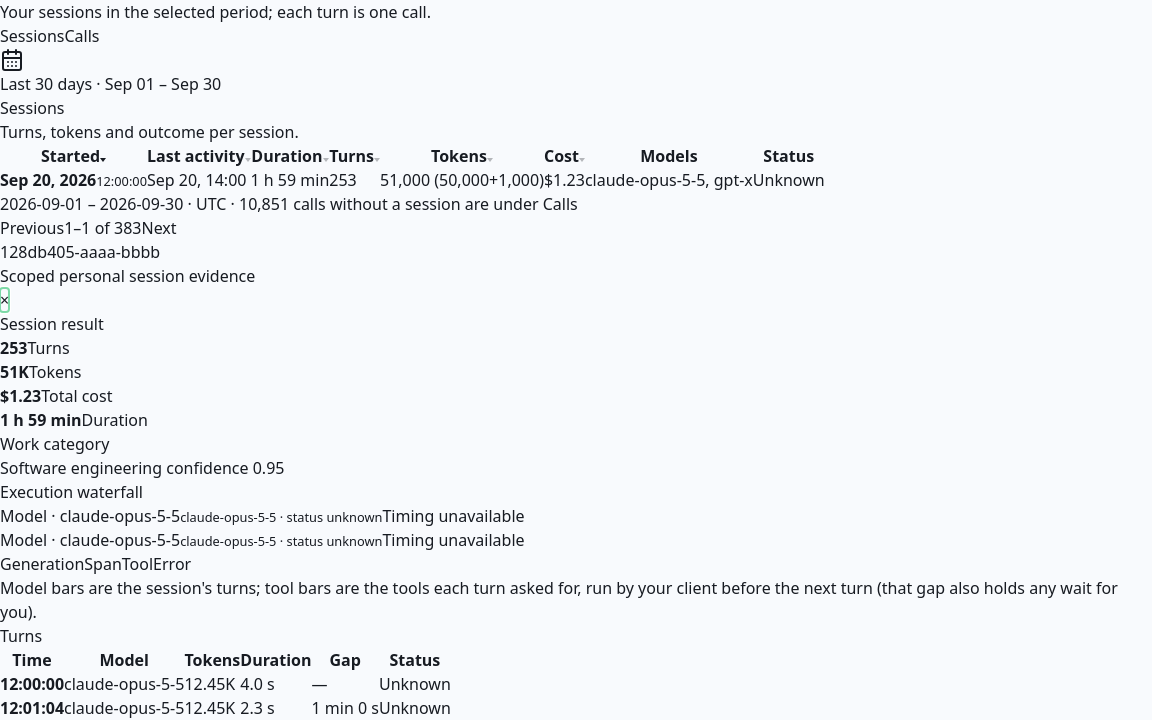
Test: Sessions › a turn opens the existing trace detail; closing it returns to the session
(page scrolled)
Click the button named "Open trace turn-2": click(32, 708) [0,696,64,719]
(page scrolled)
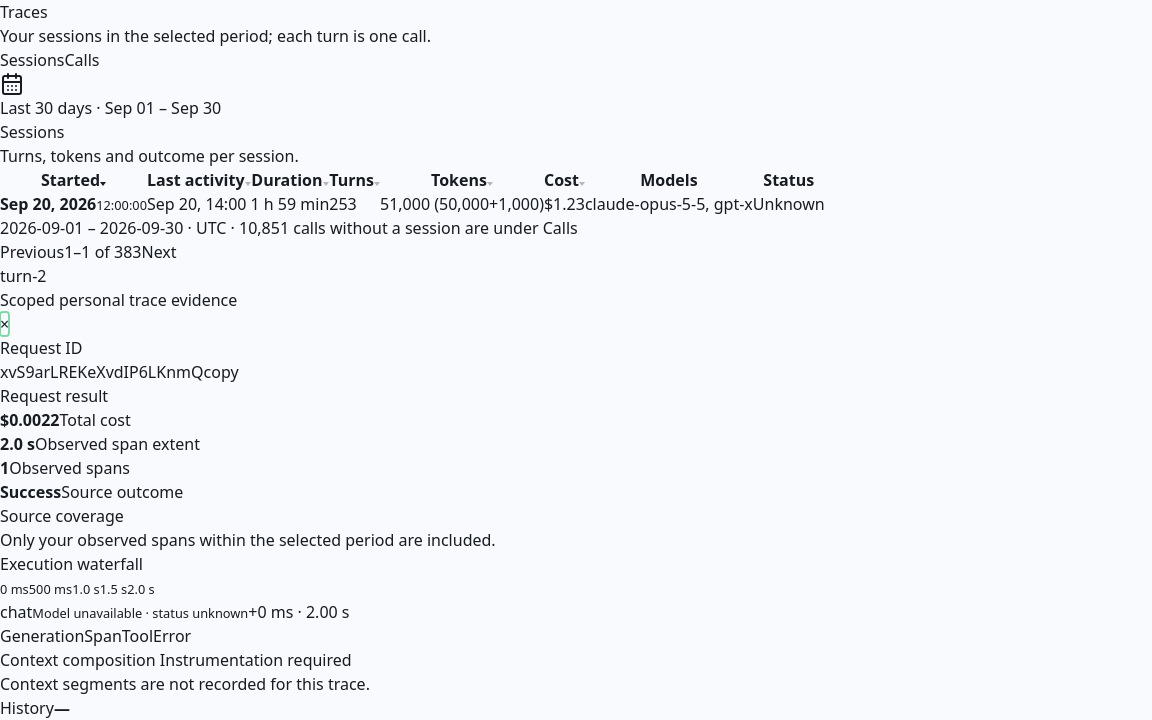
Check: the heading "Execution waterfall" is shown, box [0,553,143,575]
Press Escape
(page scrolled)
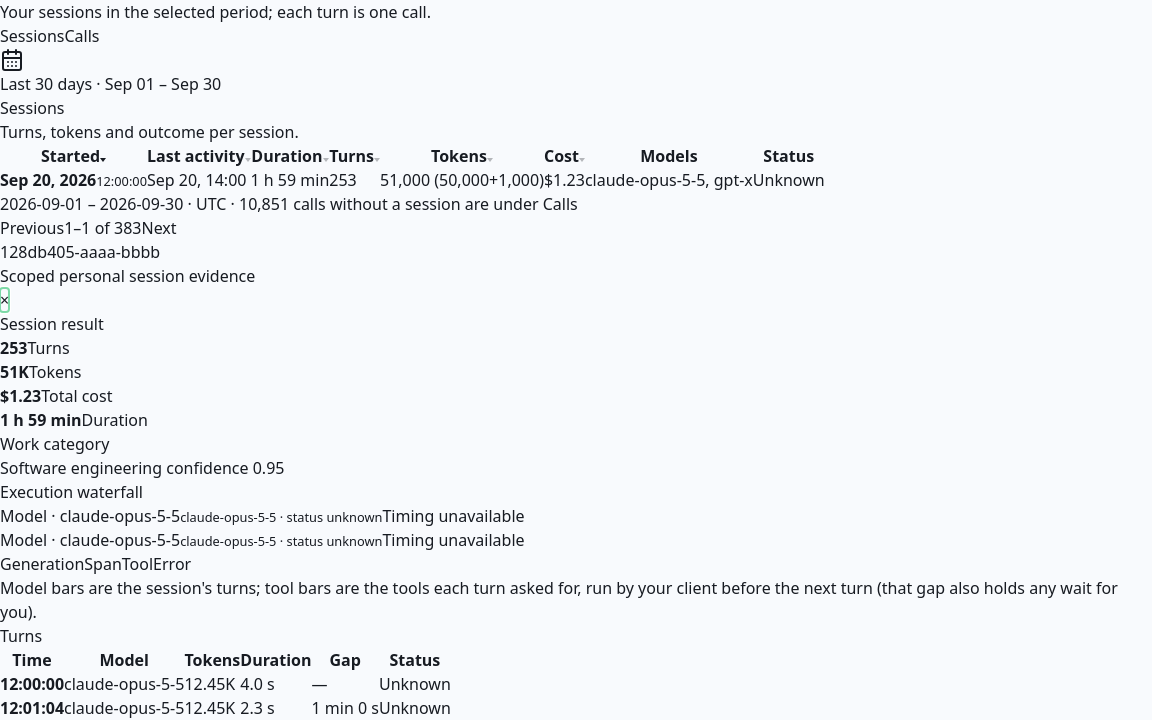
Check: the dialog "128db405-aaaa-bbbb" is shown
